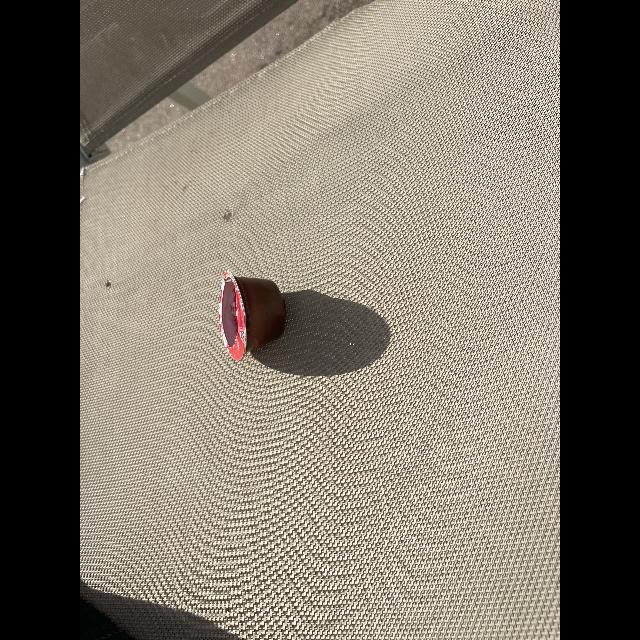damaged_capsule: (214, 268, 292, 364)
